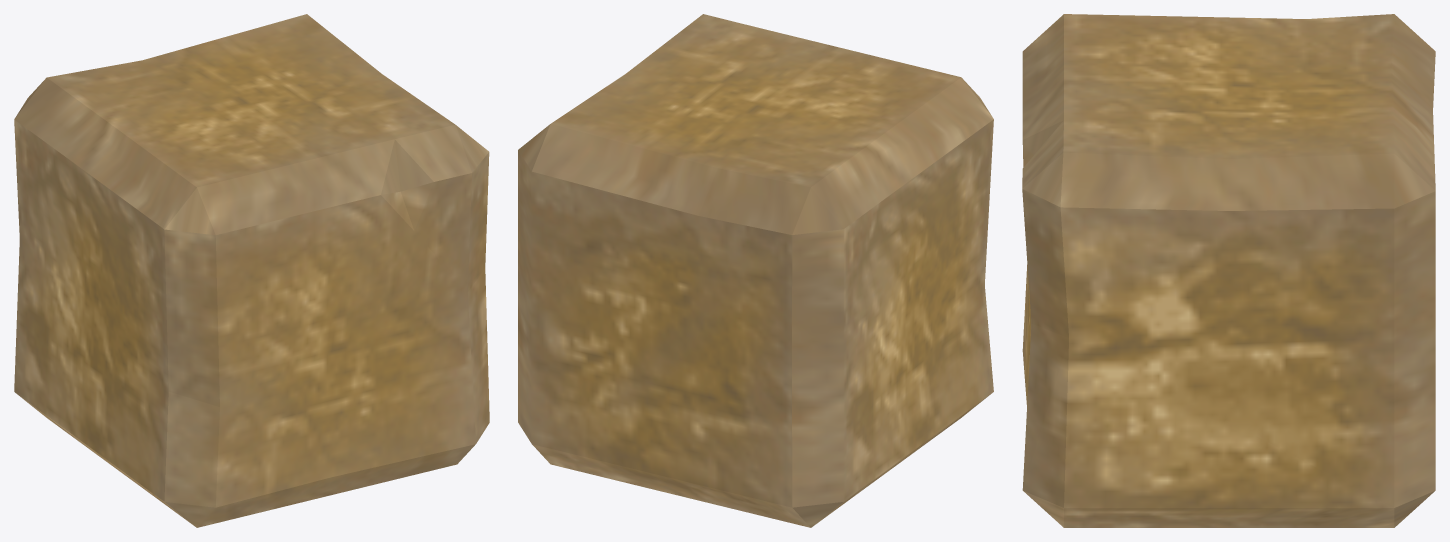
The picture shows the model from 3 angles, left to right: view 1: azimuth 30°, elevation 25°; view 2: azimuth 150°, elevation 25°; view 3: azimuth 270°, elevation 25°; orthographic projection. The views are drawn at different scales.
Parts seen in each view (by area): view 1: objpCube2; view 2: objpCube2; view 3: objpCube2.
Part boxes in pixels (x1,y1,x2,y2): objpCube2: (14,14,489,527); objpCube2: (518,14,993,527); objpCube2: (1022,14,1435,527).
Size of the model in its own units: 200 by 200 by 200.
Materials: 1 (1 with a texture image).
